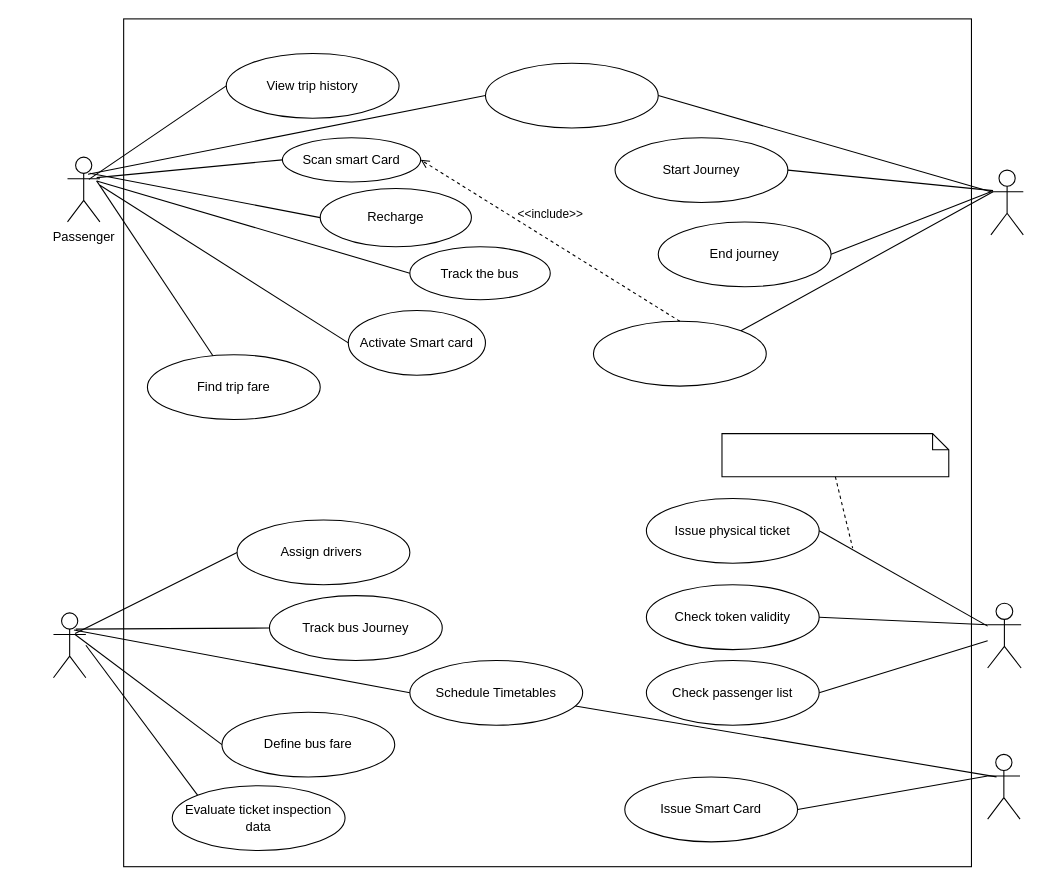
Image size: 1062x886. Some labels were removed from this diagram. The box of each missing label's shape, as (x1, y1, x2, y2) in pixels:
Admin: (987, 753, 1020, 819)
Check sufficient credit: (592, 320, 766, 386)
Condition: {Passenger is foreigner}: (721, 433, 949, 477)
Driver: (990, 169, 1023, 235)
Ticket inspector: (987, 602, 1021, 668)
Transport Manger: (52, 612, 86, 678)
View Timetables: (484, 62, 658, 128)
